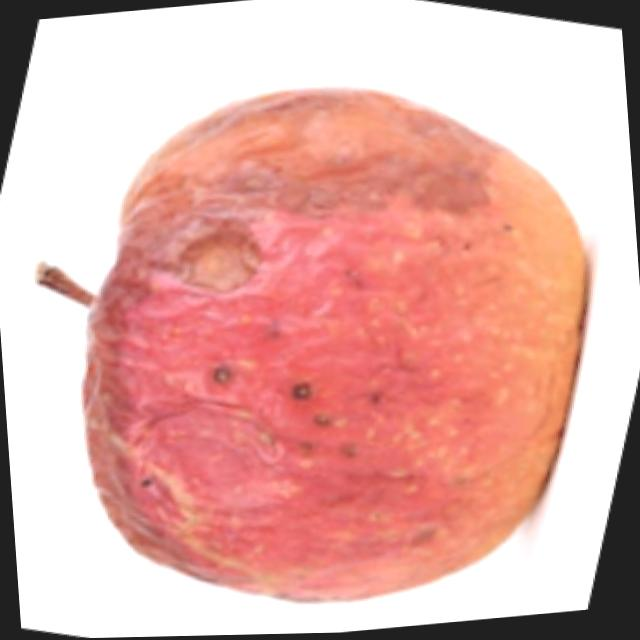organik: (12, 51, 623, 640)
